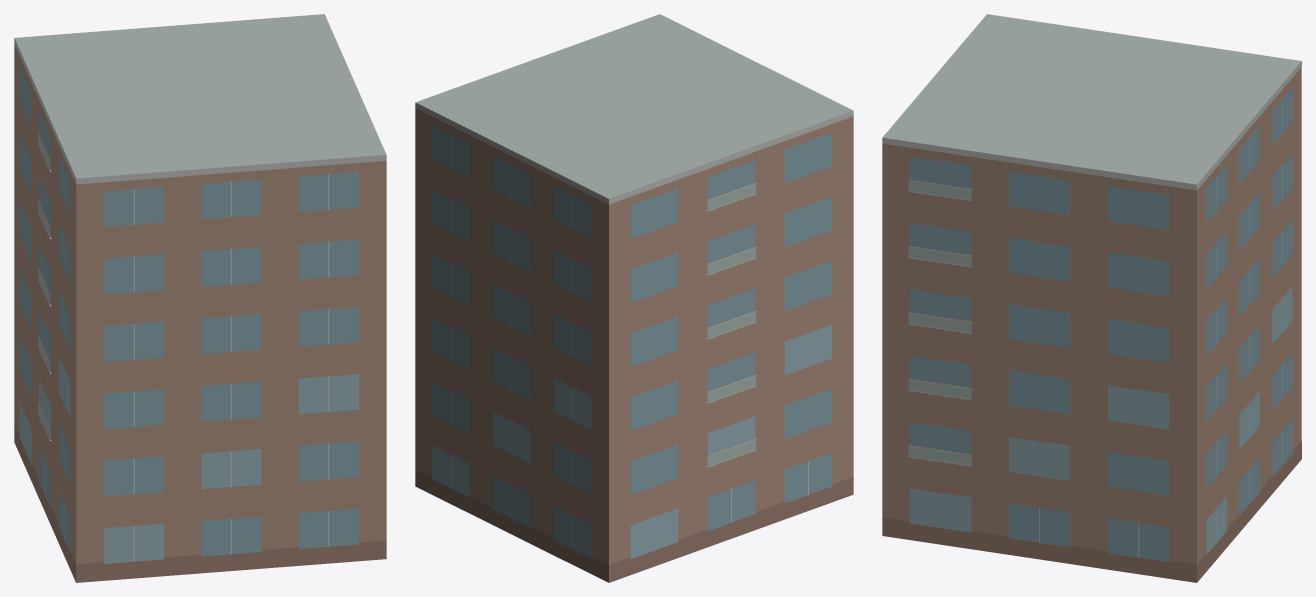
File: survey-upis-33003763.glb
3 views of the same model, side by side, from view 1: azimuth 30°, elevation 25°; view 2: azimuth 150°, elevation 25°; view 3: azimuth 270°, elevation 25° (orthographic). The views are drawn at different scales.
Parts seen in each view (by area): view 1: survey-upis-33003763.tmp; view 2: survey-upis-33003763.tmp; view 3: survey-upis-33003763.tmp.
Part boxes in pixels (<box>): survey-upis-33003763.tmp: <box>14,14,386,582</box>; survey-upis-33003763.tmp: <box>415,14,853,582</box>; survey-upis-33003763.tmp: <box>882,14,1301,582</box>.
Size of the model in its own units: 15.27 by 16.6 by 15.86.
